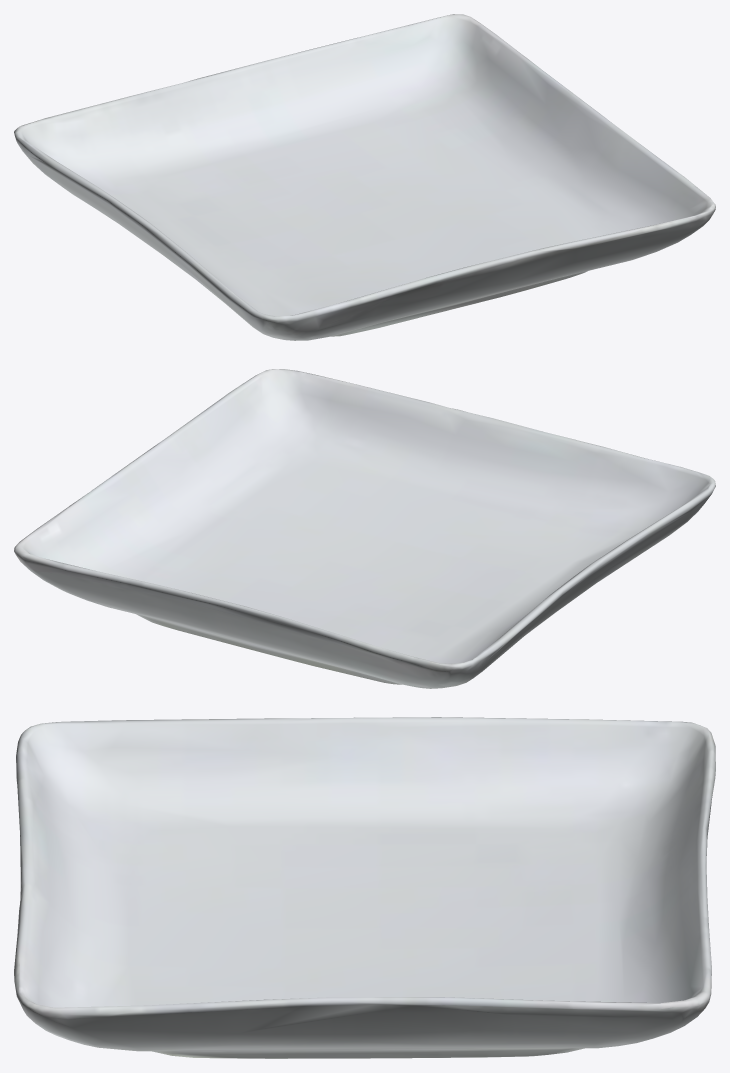
Rendered from Threshold_Salad_Plate_Square_Rim_Porcelain-high.glb.
3 views of the same model, one above another, from view 1: azimuth 30°, elevation 25°; view 2: azimuth 150°, elevation 25°; view 3: azimuth 270°, elevation 25° (orthographic). The views are drawn at different scales.
Parts seen in each view (by area): view 1: Threshold_Salad_Plate_Square_Rim_Porcelain; view 2: Threshold_Salad_Plate_Square_Rim_Porcelain; view 3: Threshold_Salad_Plate_Square_Rim_Porcelain.
Part boxes in pixels (<box>): Threshold_Salad_Plate_Square_Rim_Porcelain: <box>14,14,715,340</box>; Threshold_Salad_Plate_Square_Rim_Porcelain: <box>14,369,715,688</box>; Threshold_Salad_Plate_Square_Rim_Porcelain: <box>14,717,715,1058</box>.
Bounding box in the file's own units: 0.2119 × 0.0343 × 0.2124.
Materials: 1 (1 with a texture image).
